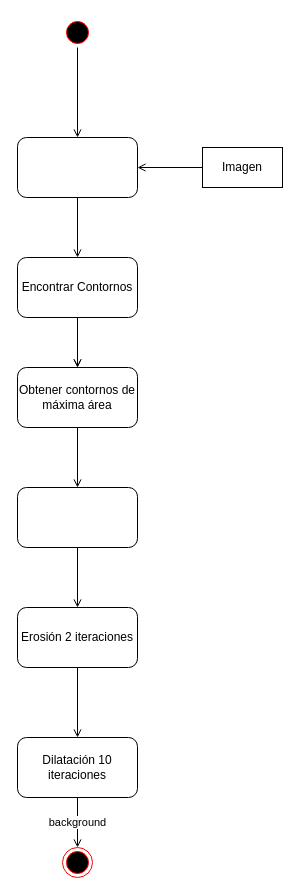
This 300x895 diagram has some shape labels left out. Each missing label, with the box of its shape:
Rellenar los contornos más grandes: (16, 486, 138, 548)
Umbralizar: (16, 136, 138, 198)
